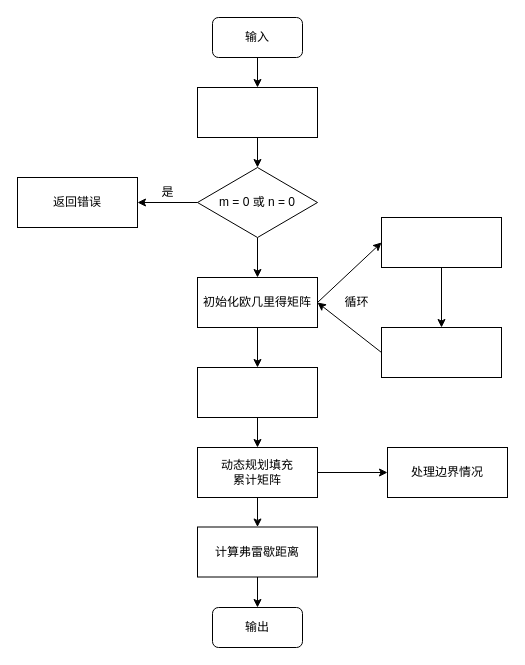
Image size: 525x665. Some labels were removed from this diagram. Here are the shapes that lost their labels. From the top down, the box of each, then its label:
(196, 86, 318, 138): 输入校验
(380, 216, 502, 268): i = 1 到 m j = 1 到 n
(380, 326, 502, 378): 计算 d(i, j)
(196, 366, 318, 418): 初始化累计矩阵
